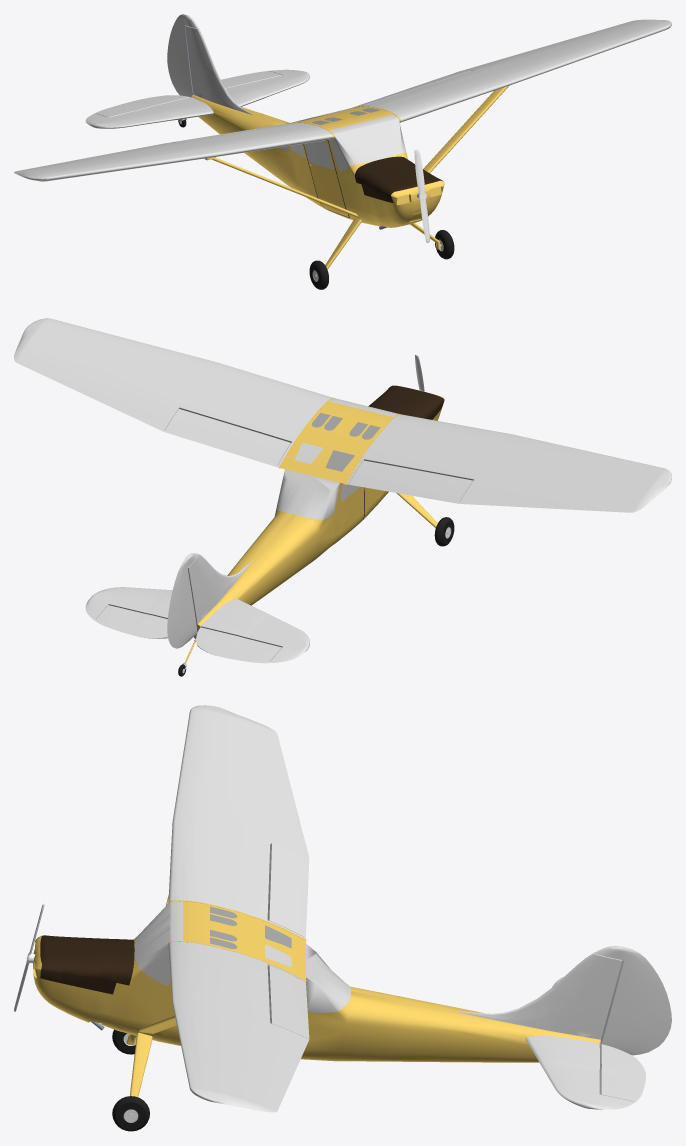
The picture shows the model from 3 angles, top to bottom: view 1: azimuth 30°, elevation 25°; view 2: azimuth 150°, elevation 25°; view 3: azimuth 270°, elevation 25°; orthographic projection. The views are drawn at different scales.
Visible parts, largest first — view 1: Group_001, Layer0_001, Group_005, Group_008, Group_003, Group_007, Group_006; view 2: Group_001, Layer0_001, Group_005, Group_008, Group_003; view 3: Group_001, Layer0_001, Group_005, Group_008, Group_003.
Boxes of the visible parts, <box> form: Group_001: <box>14,19,671,181</box>; Layer0_001: <box>178,25,508,289</box>; Group_005: <box>85,14,309,128</box>; Group_008: <box>281,108,406,171</box>; Group_003: <box>355,156,443,202</box>; Group_007: <box>303,140,349,217</box>; Group_006: <box>414,149,429,242</box>; Group_001: <box>14,318,671,512</box>; Layer0_001: <box>178,355,454,676</box>; Group_005: <box>85,553,309,663</box>; Group_008: <box>276,398,398,520</box>; Group_003: <box>368,385,444,419</box>; Group_001: <box>168,705,309,1112</box>; Layer0_001: <box>16,894,600,1131</box>; Group_005: <box>454,946,671,1109</box>; Group_008: <box>134,901,350,1013</box>; Group_003: <box>40,935,134,994</box>.
Bounding box in the file's own units: 13975 × 3204 × 9857.
